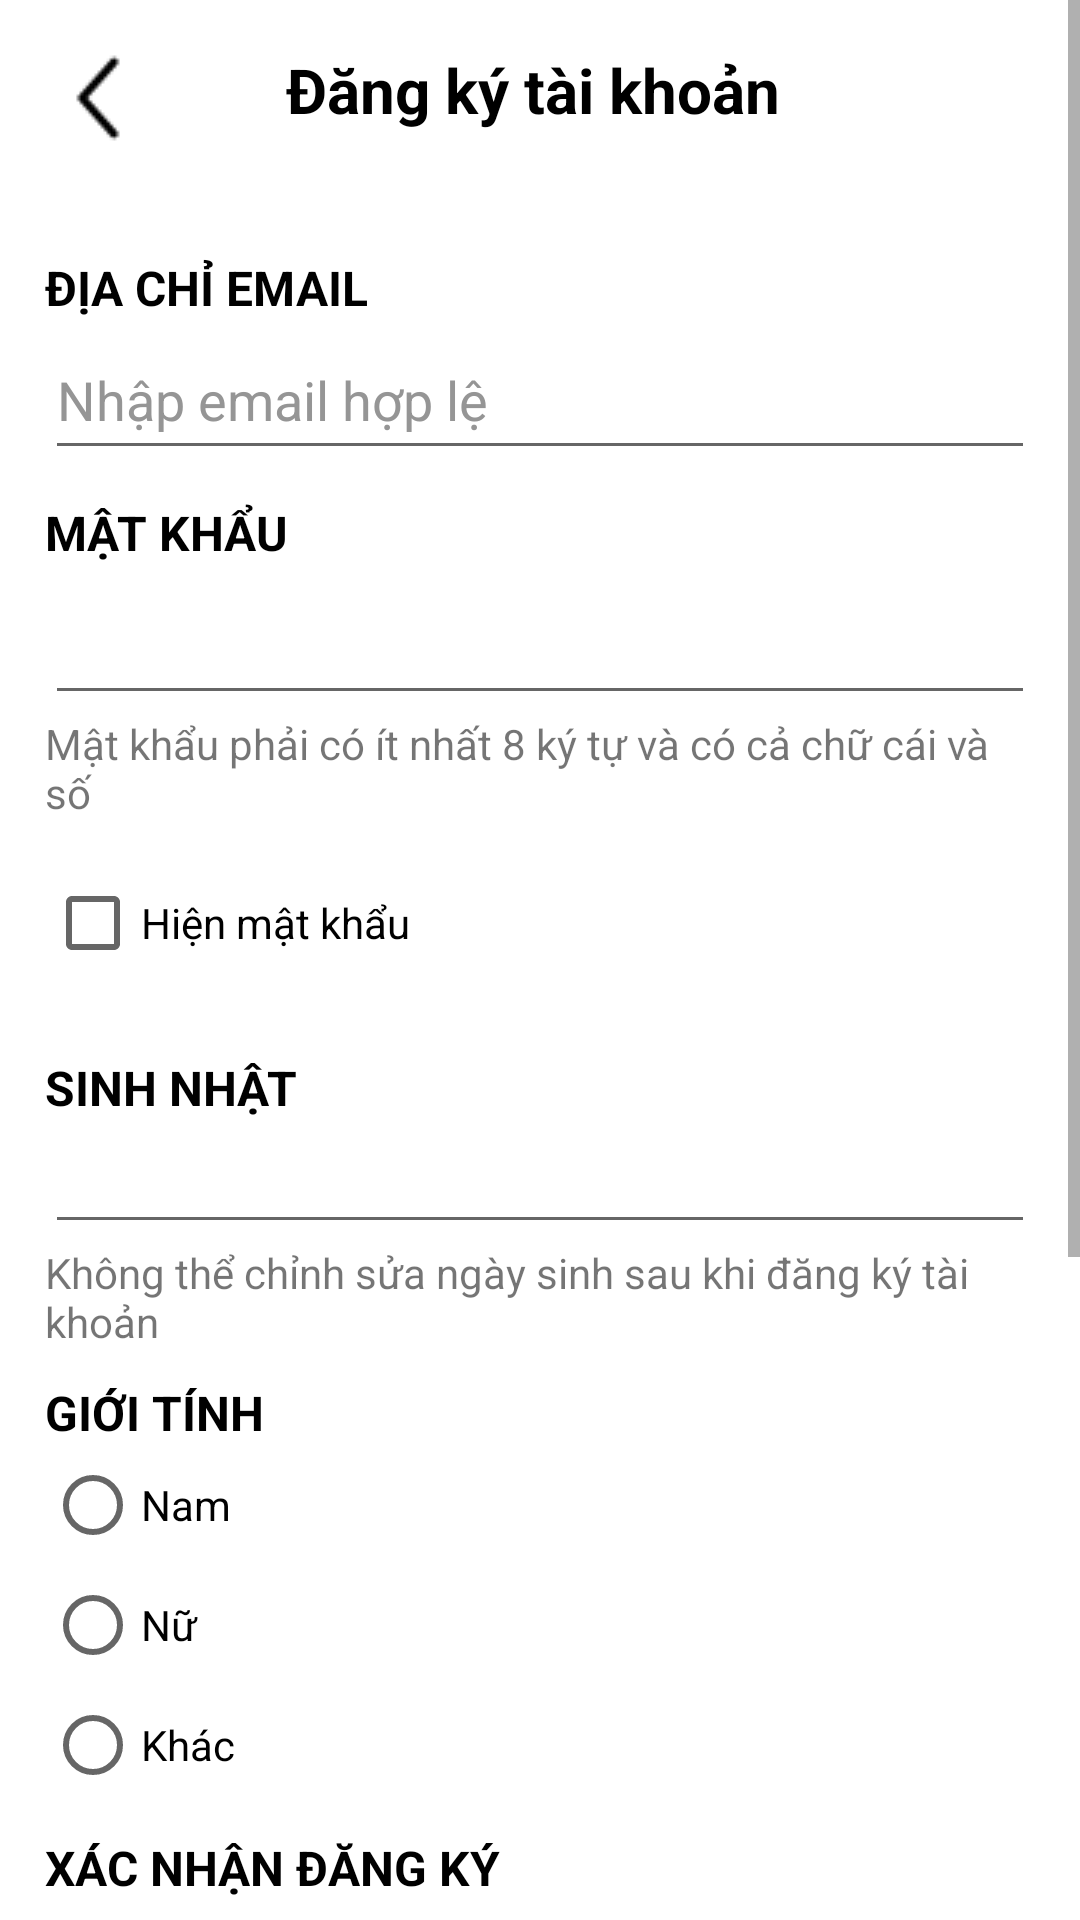

Named icons in this screenshot (1080w x 1920h) and their bounding boxes, (x1, y1, x2, y2):
left: (76, 55, 120, 140)
